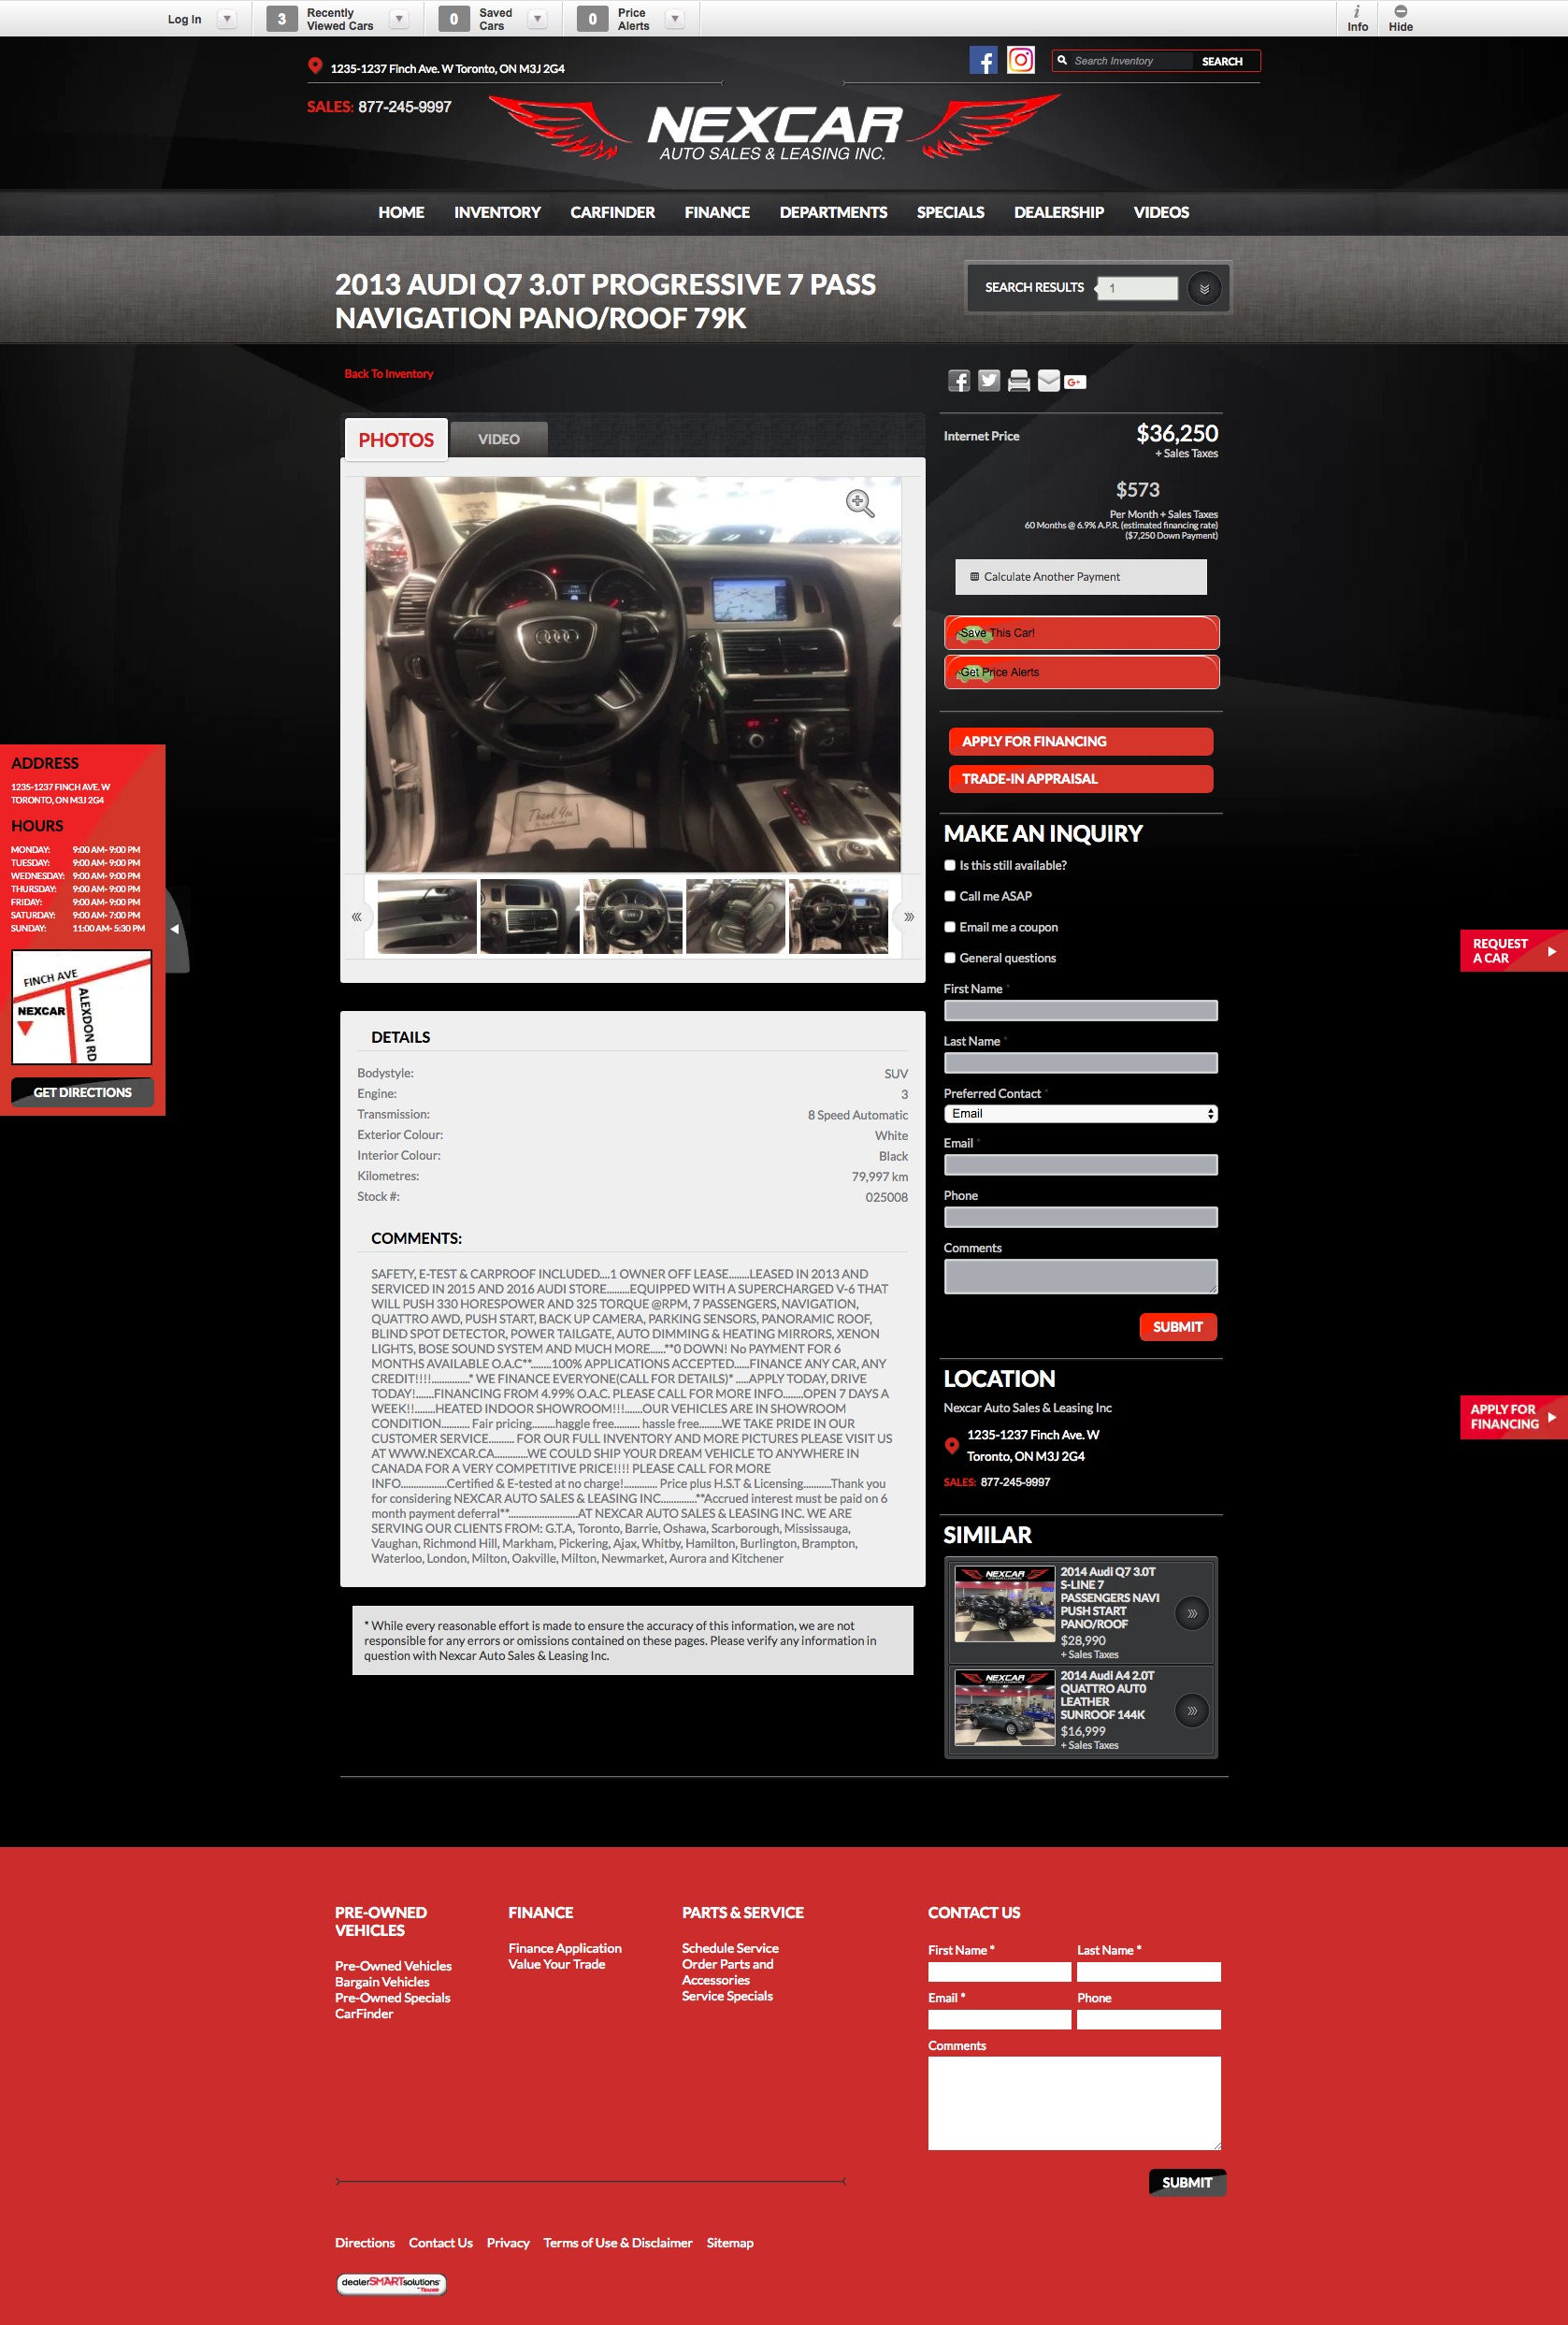car: (903, 912, 917, 924)
